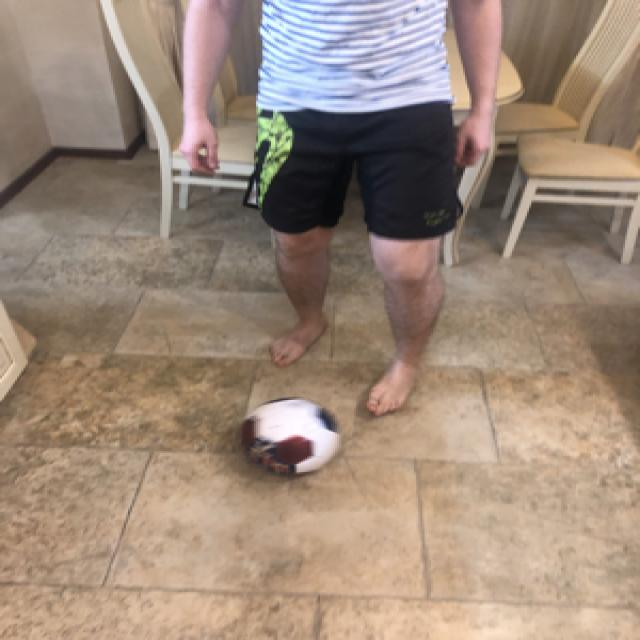soccer_ball: (232, 395, 342, 477)
